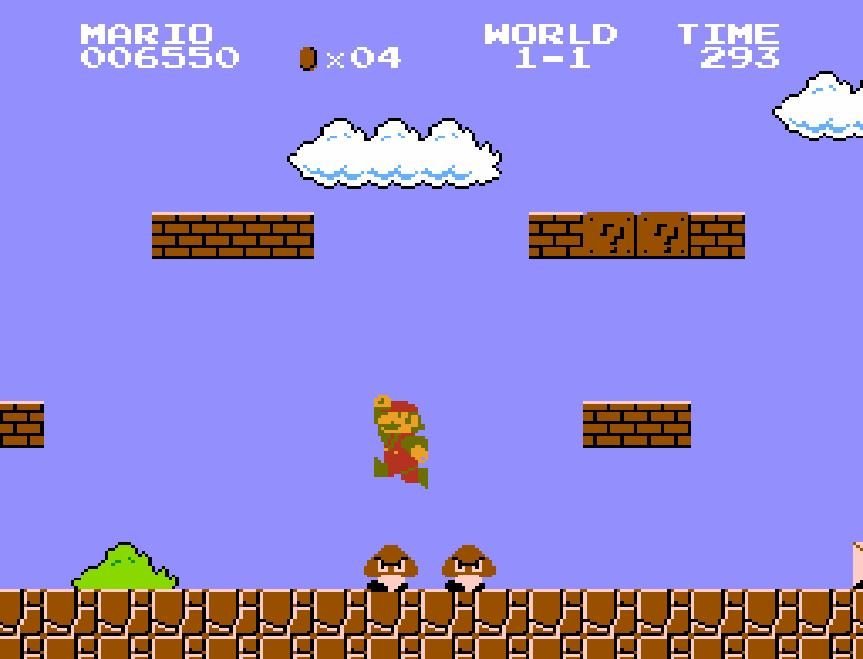big_mario: (372, 393, 430, 491)
